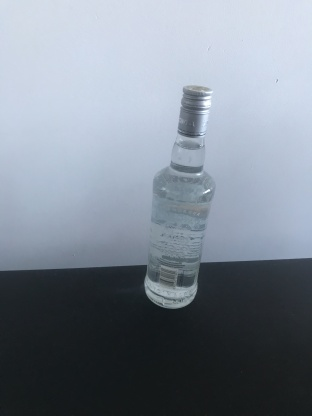nakretka: (176, 83, 213, 140)
